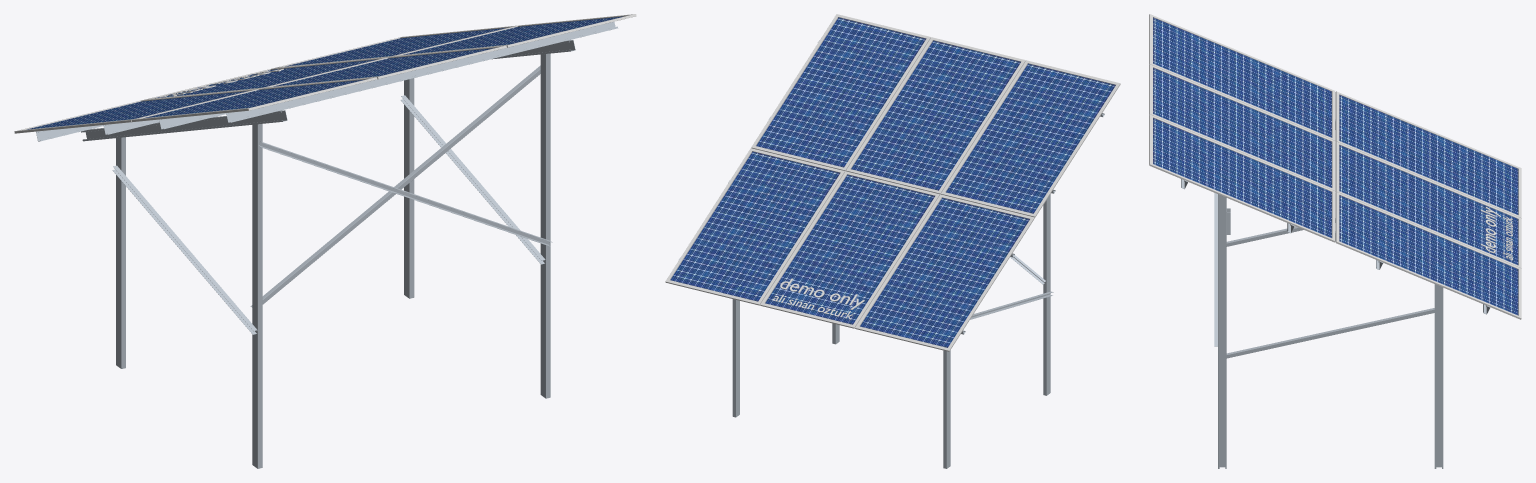
The model's file is Noksel Solar.glb.
3 renders of one model, left to right at view 1: azimuth 30°, elevation 25°; view 2: azimuth 150°, elevation 25°; view 3: azimuth 270°, elevation 25°, orthographic. The views are drawn at different scales.
Parts seen in each view (by area): view 1: CC-45, CC-45.007, CC-45.006, defaultMaterial.002, defaultMaterial.004, defaultMaterial.006, defaultMaterial.001, U-40.003, defaultMaterial.005, defaultMaterial.003, CC-45.001, CC-45.008 (+4 smaller); view 2: defaultMaterial.001, defaultMaterial.005, defaultMaterial.002, defaultMaterial.004, defaultMaterial.006, defaultMaterial.003, CC-45, CC-45.001, CC-45.008, demoOnly; view 3: defaultMaterial.006, defaultMaterial.005, defaultMaterial.001, defaultMaterial.002, defaultMaterial.004, defaultMaterial.003, CC-45.007, CC-45.008, U-40.002, U-40.004, U-40.001, demoOnly.
Boxes of the visible parts, x1=… form: CC-45: x1=252, y1=124, x2=262, y2=468; CC-45.007: x1=540, y1=53, x2=550, y2=398; CC-45.006: x1=226, y1=22, x2=617, y2=122; defaultMaterial.002: x1=131, y1=77, x2=377, y2=122; defaultMaterial.004: x1=262, y1=45, x2=506, y2=88; defaultMaterial.006: x1=391, y1=14, x2=636, y2=56; defaultMaterial.001: x1=14, y1=88, x2=258, y2=133; U-40.003: x1=250, y1=65, x2=540, y2=307; defaultMaterial.005: x1=274, y1=25, x2=517, y2=68; defaultMaterial.003: x1=144, y1=57, x2=388, y2=99; CC-45.001: x1=116, y1=137, x2=125, y2=368; CC-45.008: x1=404, y1=78, x2=414, y2=298; defaultMaterial.001: x1=855, y1=194, x2=1034, y2=351; defaultMaterial.005: x1=665, y1=148, x2=844, y2=305; defaultMaterial.002: x1=941, y1=60, x2=1120, y2=217; defaultMaterial.004: x1=846, y1=37, x2=1025, y2=194; defaultMaterial.006: x1=751, y1=14, x2=930, y2=171; defaultMaterial.003: x1=760, y1=171, x2=939, y2=328; CC-45: x1=1043, y1=194, x2=1050, y2=395; CC-45.001: x1=943, y1=350, x2=950, y2=468; CC-45.008: x1=732, y1=299, x2=739, y2=417; demoOnly: x1=780, y1=278, x2=864, y2=309; defaultMaterial.006: x1=1149, y1=114, x2=1335, y2=242; defaultMaterial.005: x1=1335, y1=192, x2=1521, y2=319; defaultMaterial.001: x1=1335, y1=91, x2=1521, y2=218; defaultMaterial.002: x1=1149, y1=14, x2=1335, y2=140; defaultMaterial.004: x1=1149, y1=64, x2=1335, y2=190; defaultMaterial.003: x1=1335, y1=141, x2=1521, y2=268; CC-45.007: x1=1218, y1=194, x2=1226, y2=468; CC-45.008: x1=1434, y1=284, x2=1443, y2=468; U-40.002: x1=1226, y1=308, x2=1434, y2=358; U-40.004: x1=1214, y1=193, x2=1217, y2=346; U-40.001: x1=1226, y1=218, x2=1335, y2=246; demoOnly: x1=1480, y1=207, x2=1500, y2=253.
Size of the model in its own units: 3.72 by 3.69 by 3.88.
4 materials, 1 textured.
